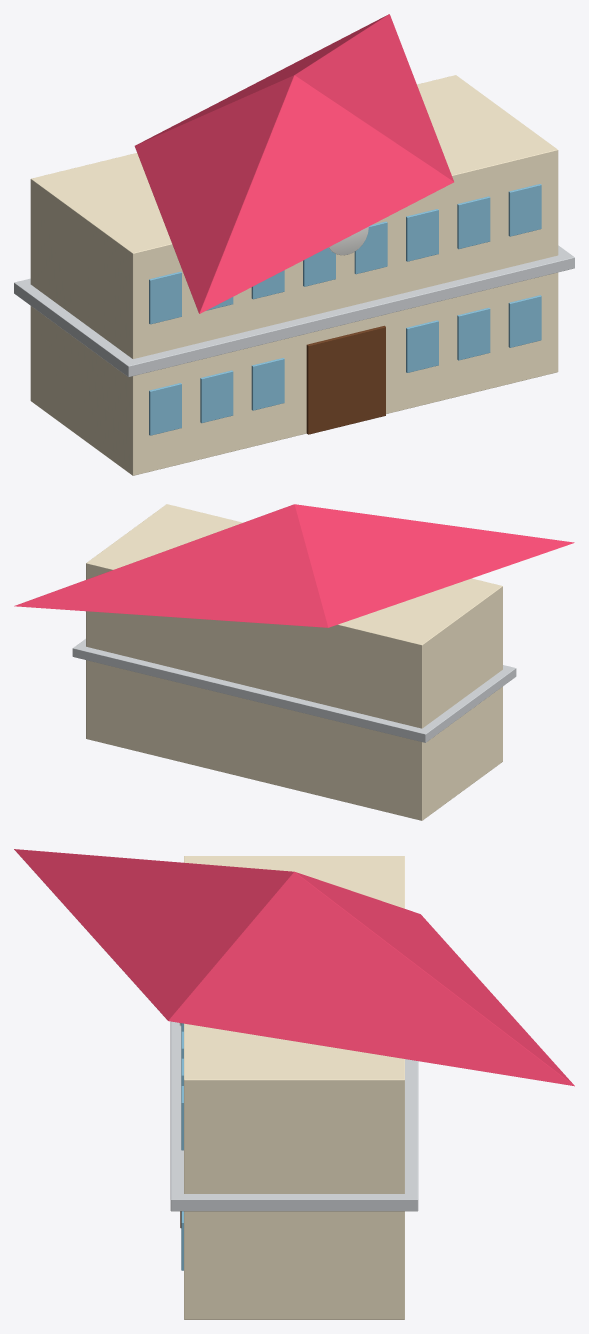
File: school_building.glb
3 views of the same model, one above another, from view 1: azimuth 30°, elevation 25°; view 2: azimuth 150°, elevation 25°; view 3: azimuth 270°, elevation 25° (orthographic). The views are drawn at different scales.
Visible parts, largest first — view 1: school_building; view 2: school_building; view 3: school_building.
Part boxes in pixels (left/top/right/bottom): school_building: left=14, top=14, right=574, bottom=475; school_building: left=14, top=504, right=574, bottom=820; school_building: left=14, top=849, right=574, bottom=1319.
Bounding box in the file's own units: 12.7 × 8.4 × 12.7.
